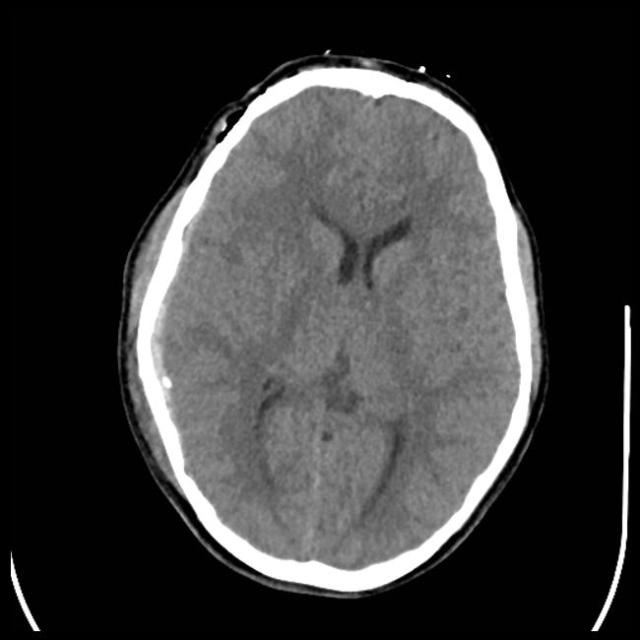lesion: (118, 56, 549, 594)
